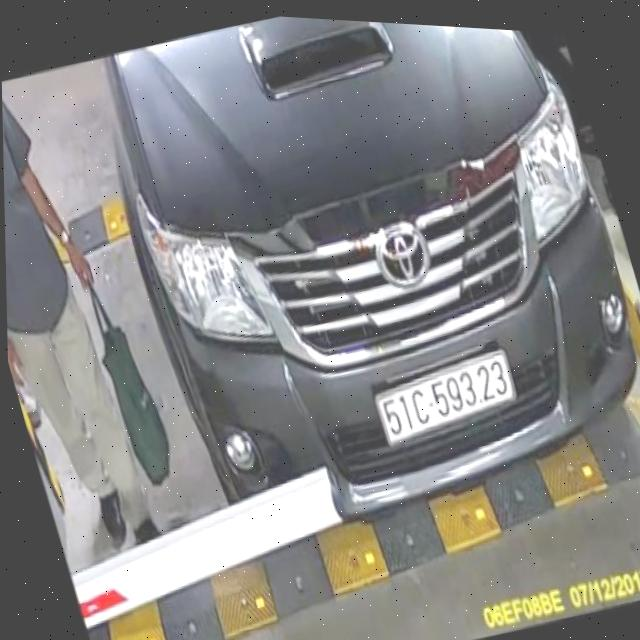car: (75, 4, 640, 580)
plate: (365, 341, 528, 457)
